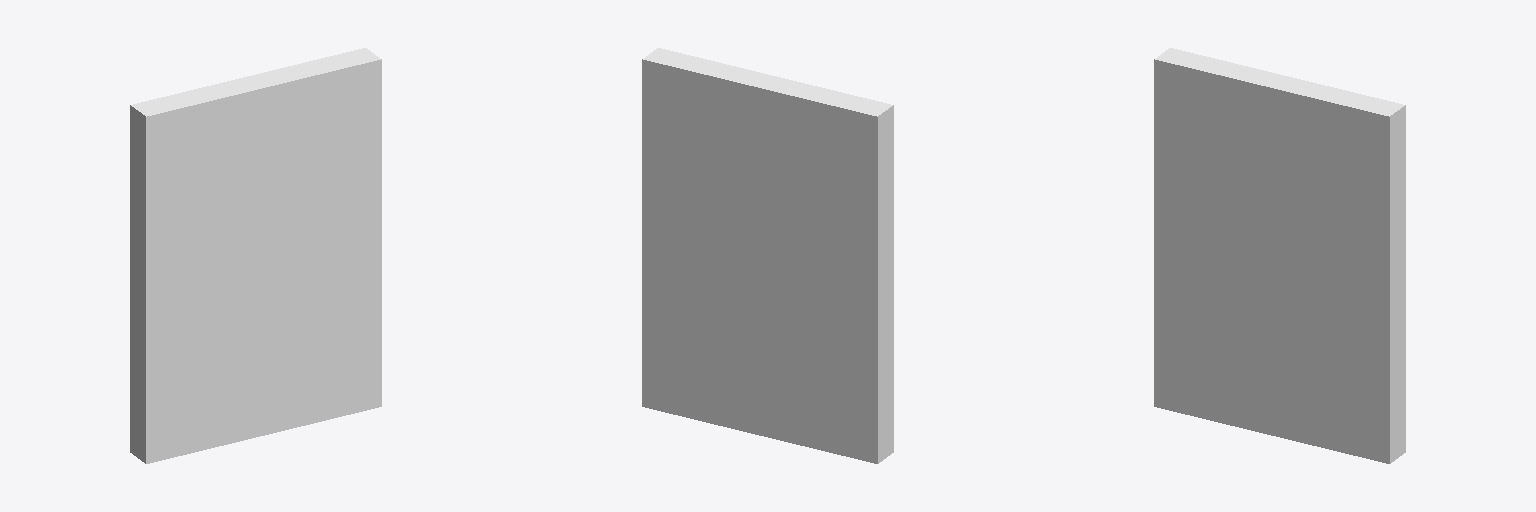
The model's file is HockeyBoards.obj.
The picture shows the model from 3 angles: view 1: azimuth 30°, elevation 25°; view 2: azimuth 150°, elevation 25°; view 3: azimuth 330°, elevation 25°; orthographic projection.
Bounding box in the file's own units: 17 × 24 × 2.